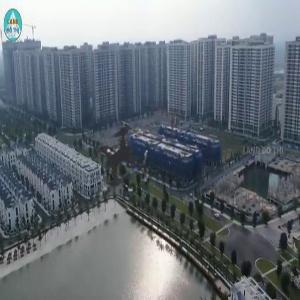drone: (36, 67, 218, 249)
